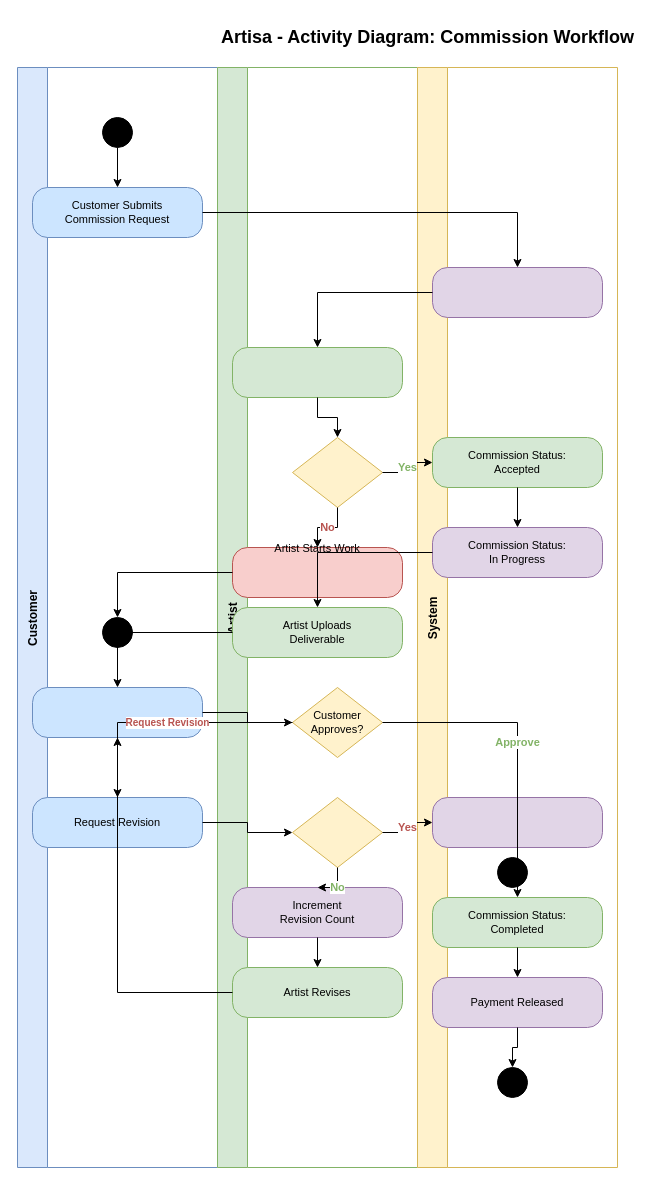
Image size: 655x1185. Some labels were removed from this diagram. Here are the shapes that lost their labels. From the top down, the box of each, then its label:
(432, 266, 602, 318): Commission Created (status: pending)
(232, 346, 402, 398): Artist Receives Notification
(292, 436, 382, 508): Artist Accepts?
(232, 546, 402, 598): Commission Status: Declined
(32, 686, 202, 738): Customer Reviews Deliverable
(292, 796, 382, 868): Revision Limit Reached?
(432, 796, 602, 848): Escalate to Admin
